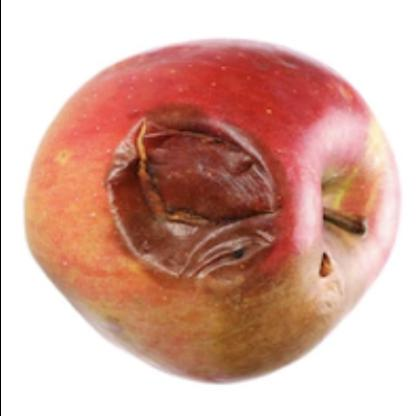Rotten Apple: (20, 43, 400, 382)
